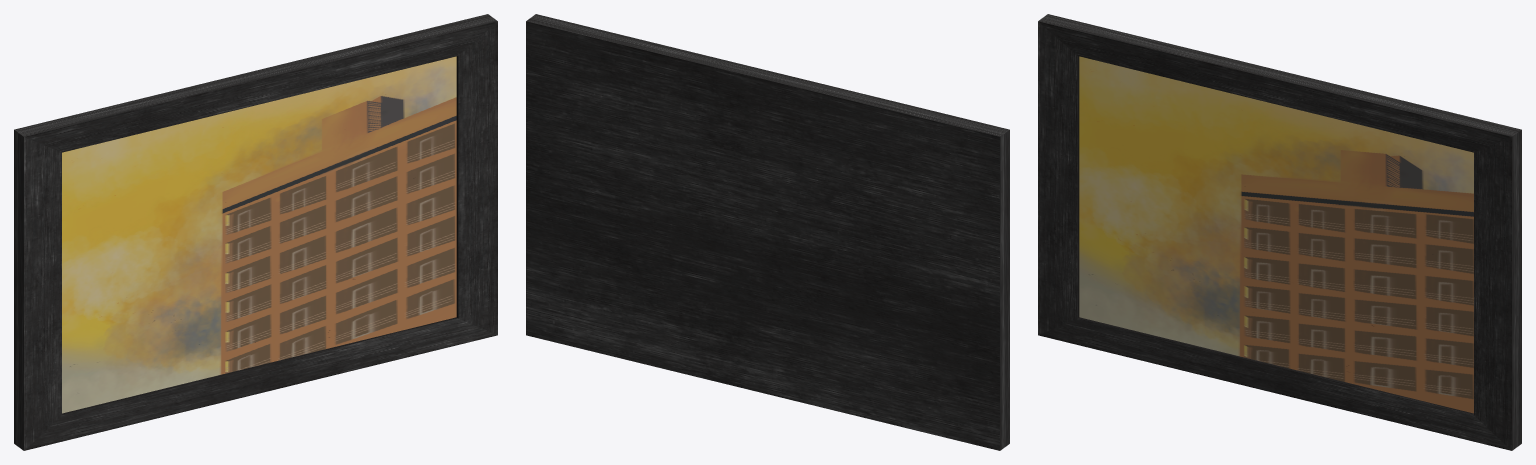
Rendered from painting_landscape_4.fbx.
The picture shows the model from 3 angles, left to right: view 1: azimuth 30°, elevation 25°; view 2: azimuth 150°, elevation 25°; view 3: azimuth 330°, elevation 25°; orthographic projection.
Parts seen in each view (by area): view 1: painting_Var8; view 2: painting_Var8; view 3: painting_Var8.
Part boxes in pixels (x1=…): painting_Var8: x1=14, y1=14, x2=497, y2=450; painting_Var8: x1=526, y1=14, x2=1009, y2=450; painting_Var8: x1=1038, y1=14, x2=1521, y2=450.
Bounding box in the file's own units: 113 × 71.52 × 4.11.
Materials: 1 (1 with a texture image).
